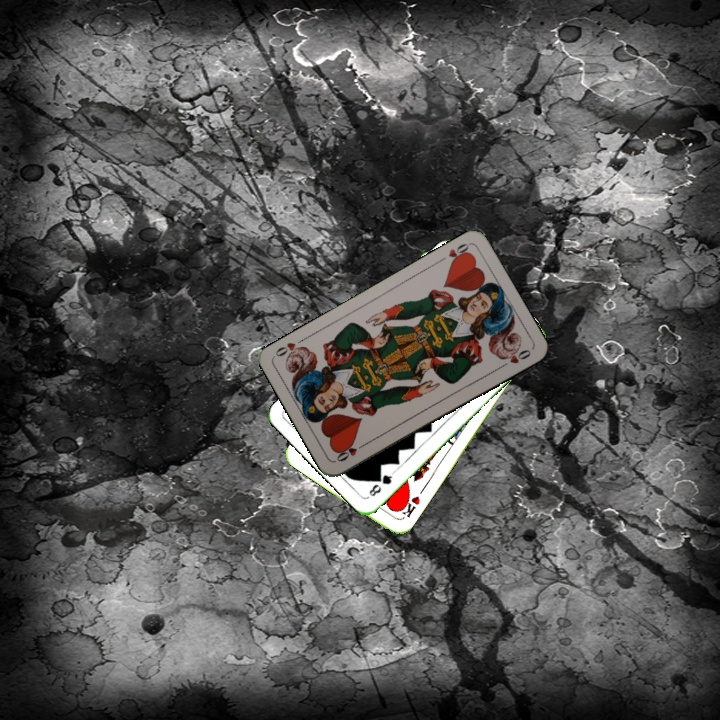G8: (365, 468, 397, 499)
HK: (395, 491, 423, 520)
HO: (435, 239, 473, 267), (332, 439, 369, 464)
